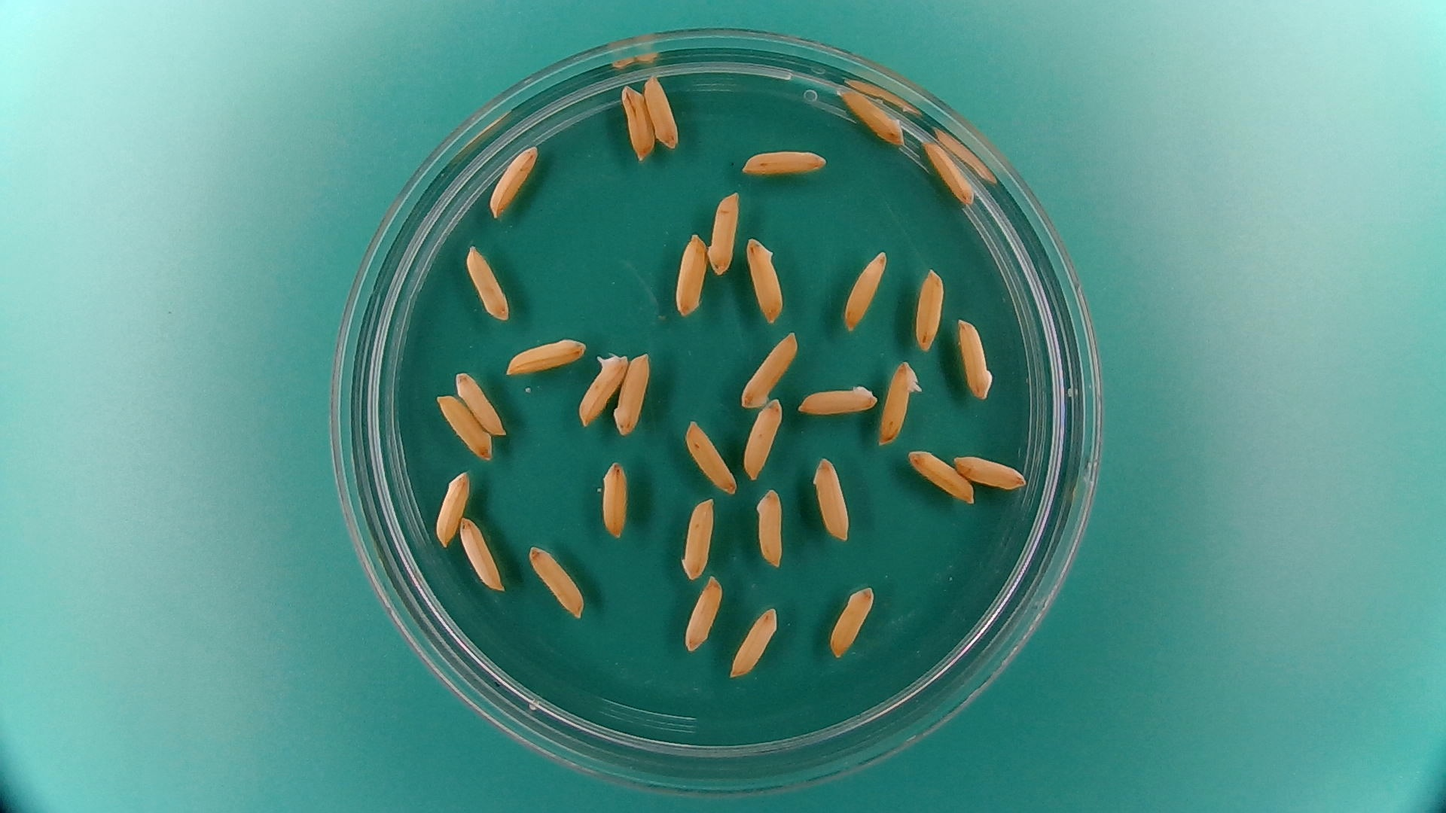no: (525, 541, 587, 621), (737, 330, 799, 408), (834, 83, 908, 146), (681, 415, 737, 496), (841, 245, 890, 333), (903, 445, 976, 504), (487, 141, 541, 218), (435, 391, 494, 461), (728, 603, 781, 680), (826, 581, 877, 661), (920, 136, 977, 207), (463, 241, 512, 321), (744, 233, 786, 326), (456, 514, 505, 593), (953, 313, 996, 403), (810, 453, 853, 543), (741, 397, 786, 483), (609, 348, 650, 442), (502, 333, 590, 376), (454, 368, 507, 437), (681, 573, 725, 654), (794, 379, 881, 419), (705, 186, 742, 279), (949, 451, 1030, 492), (678, 495, 717, 580), (618, 79, 656, 163), (641, 73, 681, 151), (432, 467, 471, 547), (911, 264, 946, 353), (672, 230, 708, 316), (740, 143, 828, 177), (596, 456, 630, 541), (752, 485, 786, 569)
yes: (575, 349, 630, 429), (876, 355, 923, 446)
